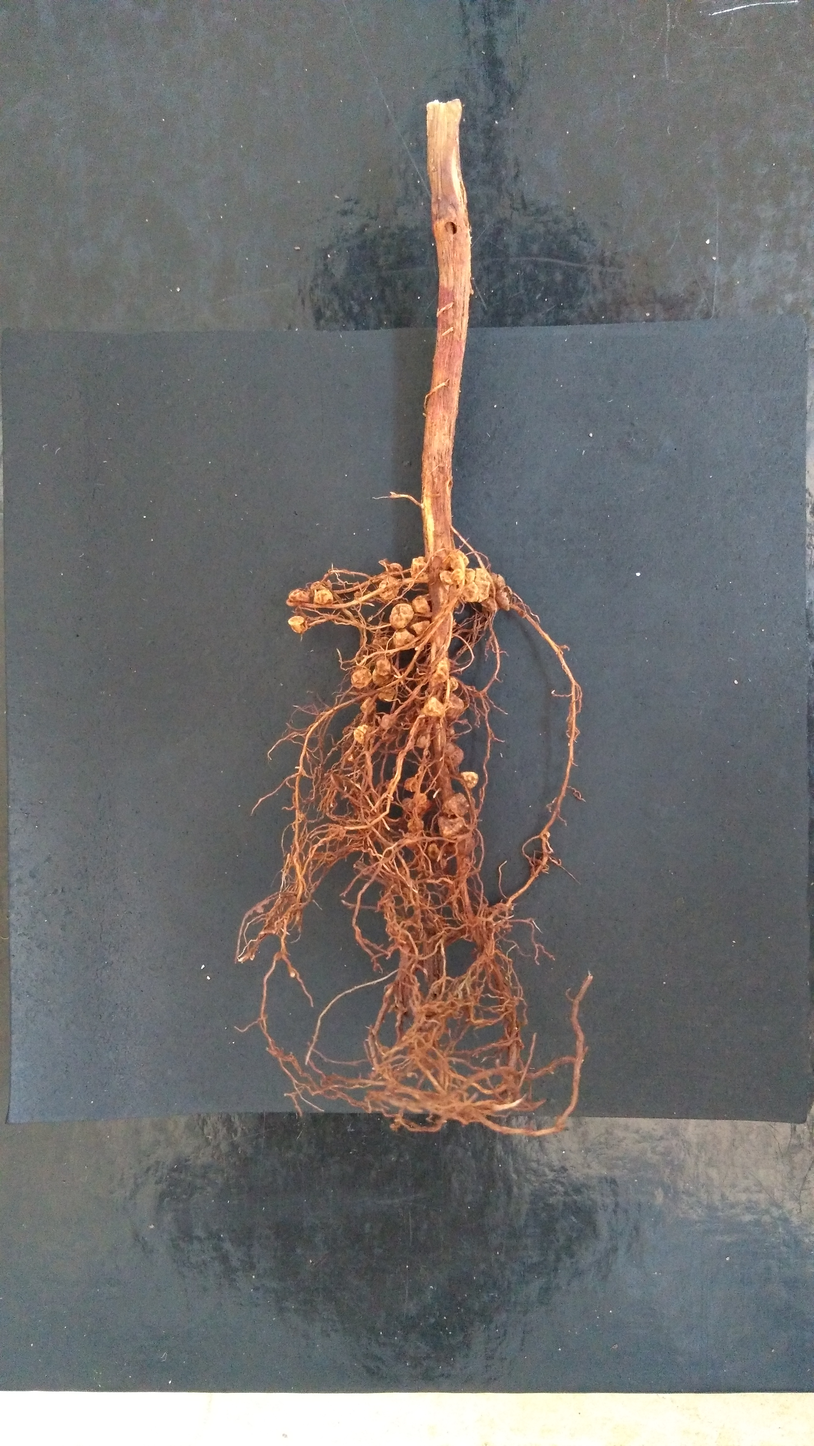nodule: (436, 815, 469, 840), (441, 791, 471, 818), (441, 691, 465, 722), (388, 602, 414, 630), (391, 627, 416, 651), (442, 742, 465, 768), (420, 696, 445, 719), (378, 576, 400, 601), (370, 666, 395, 687), (452, 834, 477, 855), (350, 668, 373, 690), (449, 548, 470, 571), (408, 555, 428, 578), (473, 579, 491, 604), (411, 594, 431, 616), (311, 588, 335, 606), (286, 614, 307, 634), (459, 769, 479, 790), (352, 723, 370, 745), (462, 581, 480, 603), (287, 588, 311, 604), (373, 657, 392, 677), (489, 571, 508, 591), (409, 618, 430, 635), (434, 661, 450, 683), (359, 696, 377, 715), (479, 595, 497, 613), (402, 775, 419, 794), (495, 591, 510, 612), (378, 713, 396, 730), (438, 569, 454, 587), (378, 686, 396, 702), (411, 791, 429, 807), (400, 795, 414, 813), (473, 567, 488, 583), (427, 843, 440, 861), (451, 568, 464, 586), (416, 733, 429, 750), (464, 567, 476, 584), (449, 674, 459, 691), (446, 728, 455, 736)
